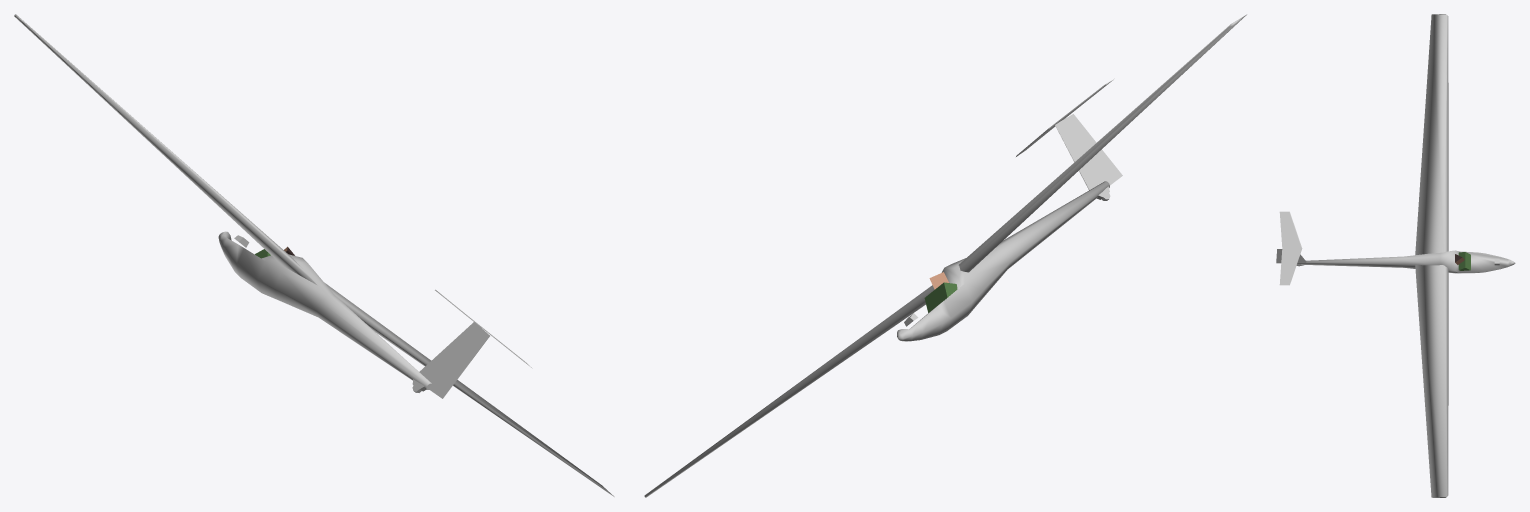
The model's file is glider-blue-thermal-cbj_LOD01.gltf.
3 renders of one model, left to right at view 1: azimuth 30°, elevation 25°; view 2: azimuth 150°, elevation 25°; view 3: azimuth 270°, elevation 25°, orthographic. The views are drawn at different scales.
Parts seen in each view (by area): view 1: glider00; view 2: glider00; view 3: glider00.
Part boxes in pixels (x1=…): glider00: x1=14, y1=14, x2=614, y2=496; glider00: x1=644, y1=14, x2=1246, y2=497; glider00: x1=1276, y1=14, x2=1515, y2=497.
Size of what is drawn, in the model's own units: 10.64 by 10.66 by 7.01.
